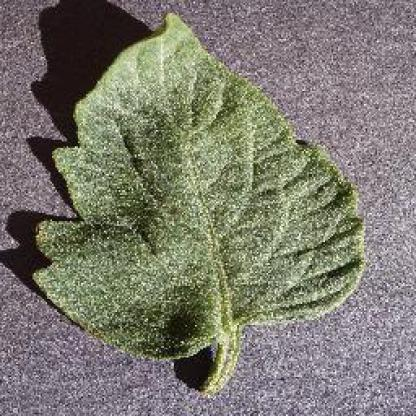bad leaf: (33, 14, 380, 409)
